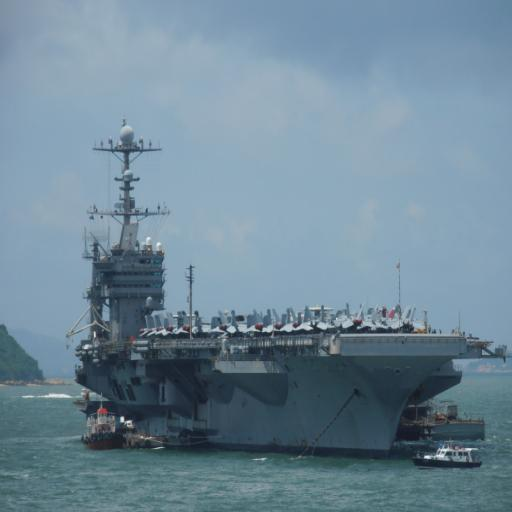Portanaves: (66, 113, 511, 465)
